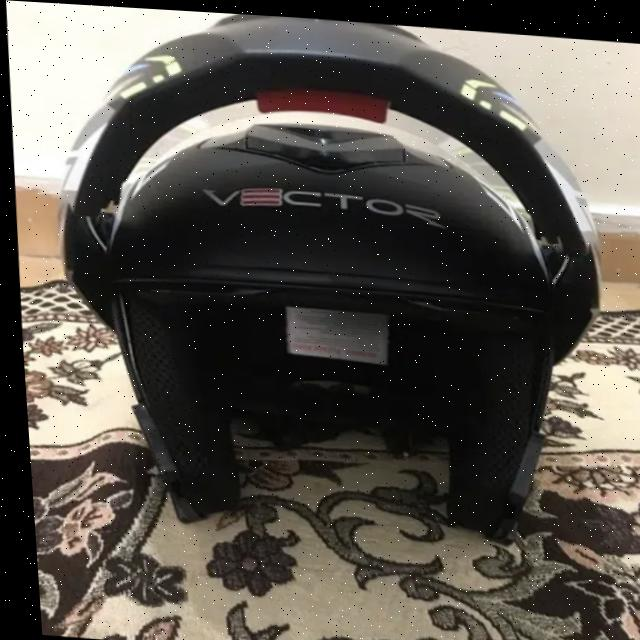Helmet: (40, 2, 596, 543)
